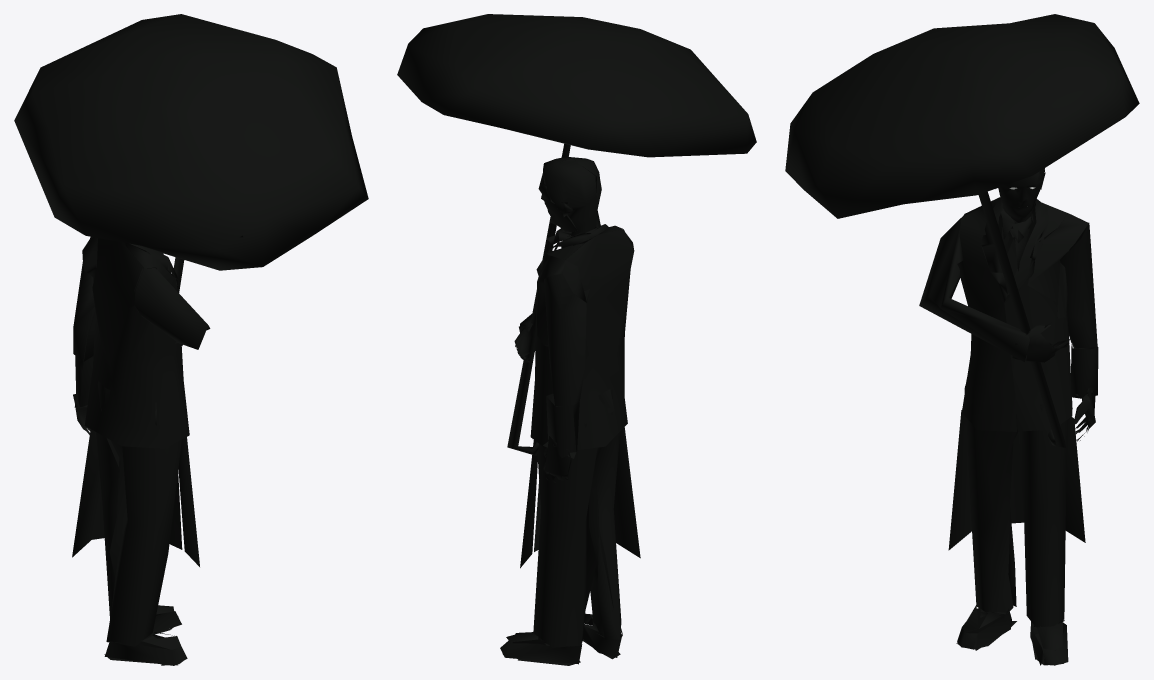
File: olive.obj
3 renders of one model, left to right at view 1: azimuth 30°, elevation 25°; view 2: azimuth 150°, elevation 25°; view 3: azimuth 270°, elevation 25°, orthographic. The views are drawn at different scales.
Visible parts, largest first — view 1: interloper_olive; view 2: interloper_olive; view 3: interloper_olive.
Boxes of the visible parts, left/top/right/bottom form: interloper_olive: left=14, top=14, right=368, bottom=665; interloper_olive: left=397, top=14, right=756, bottom=665; interloper_olive: left=785, top=14, right=1139, bottom=665.
Size of the model in its own units: 0.8319 by 1.57 by 0.8164.
